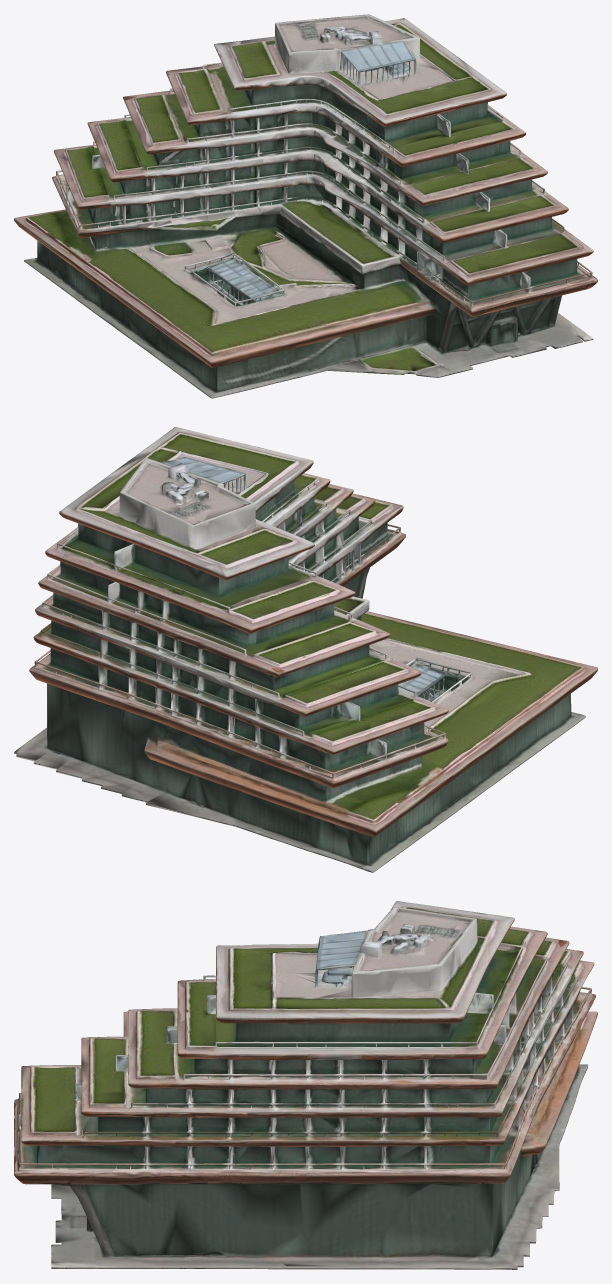
Rendered from garden-main.glb.
The picture shows the model from 3 angles, top to bottom: view 1: azimuth 30°, elevation 25°; view 2: azimuth 150°, elevation 25°; view 3: azimuth 270°, elevation 25°; orthographic projection. The views are drawn at different scales.
Parts seen in each view (by area): view 1: tripo_node_925c2f30-7680-4277-8635-cc8cfdd51d5f; view 2: tripo_node_925c2f30-7680-4277-8635-cc8cfdd51d5f; view 3: tripo_node_925c2f30-7680-4277-8635-cc8cfdd51d5f.
Part boxes in pixels (x1=…): tripo_node_925c2f30-7680-4277-8635-cc8cfdd51d5f: x1=14, y1=14, x2=597, y2=398; tripo_node_925c2f30-7680-4277-8635-cc8cfdd51d5f: x1=14, y1=427, x2=597, y2=872; tripo_node_925c2f30-7680-4277-8635-cc8cfdd51d5f: x1=14, y1=901, x2=597, y2=1269.
Size of the model in its own units: 0.8238 by 0.5134 by 0.9791.
Materials: 1 (1 with a texture image).
